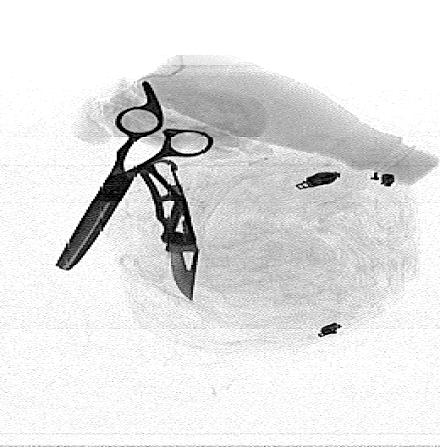Knife: (136, 159, 199, 303)
Scissors: (50, 79, 216, 272)
